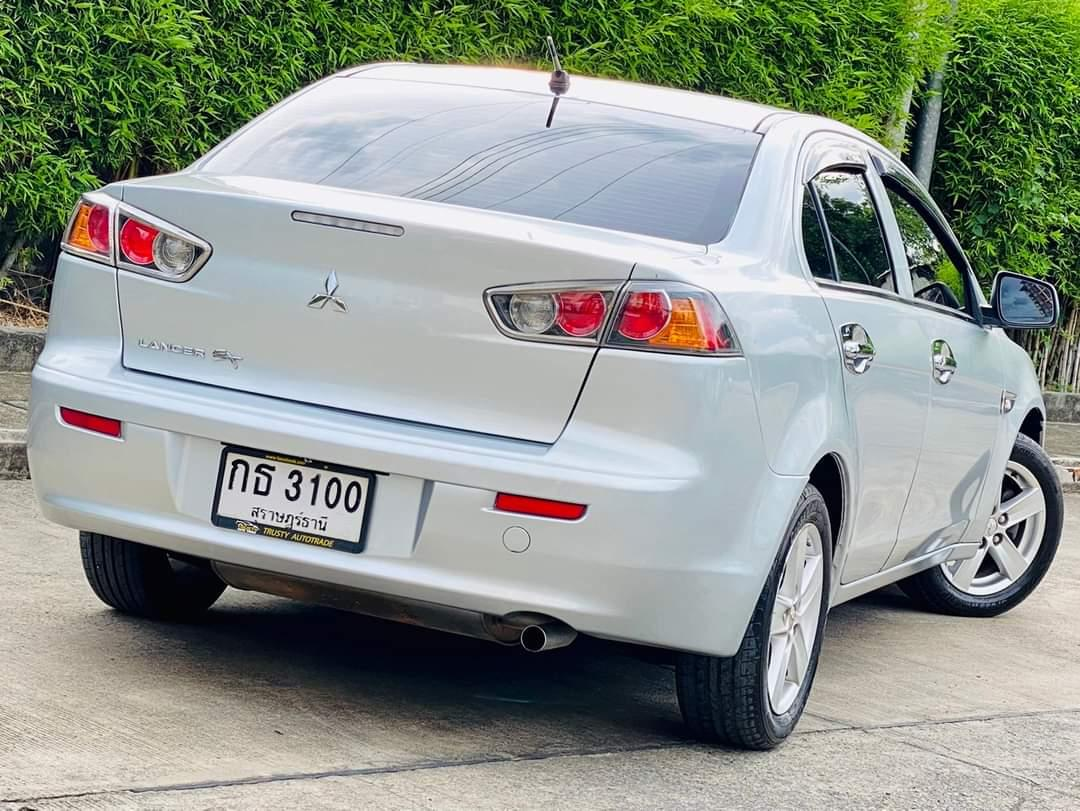license-plate: (207, 437, 378, 559)
